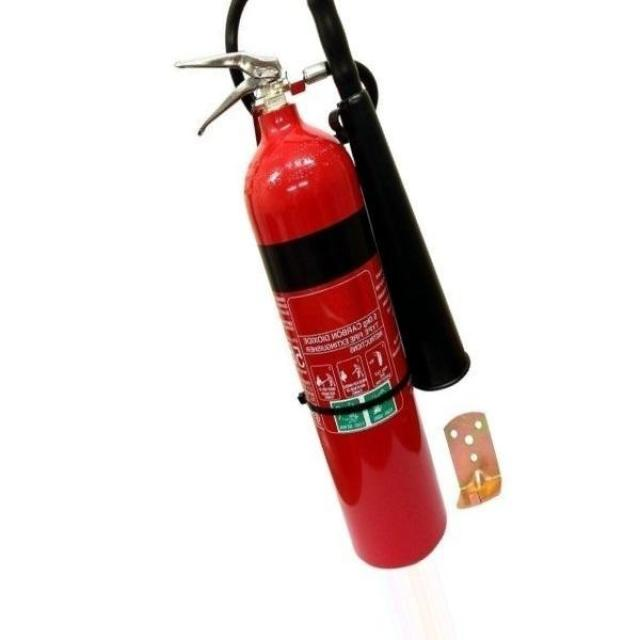fire_extinguisher: (167, 0, 475, 575)
